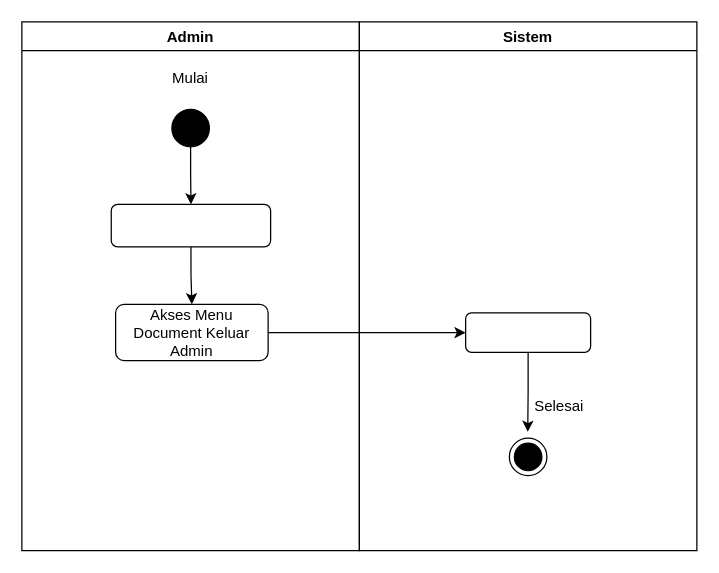
This 719x573 diagram has some shape labels left out. The shapes that lost their labels are listed below. From the top down, each one's centre as x and y in pixels, then its label:
At pixel 190 225: "Tampil Dashboard Admin".
At pixel 527 332: "Lihat data Document Keluar".
